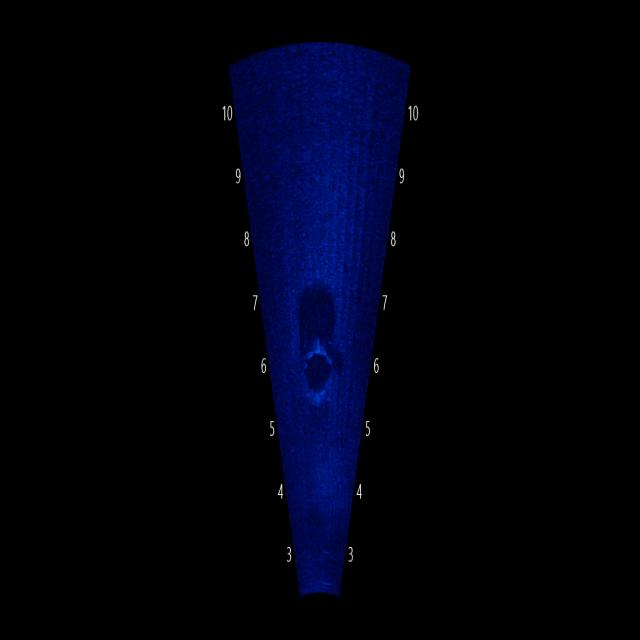circle: (291, 310, 343, 417)
